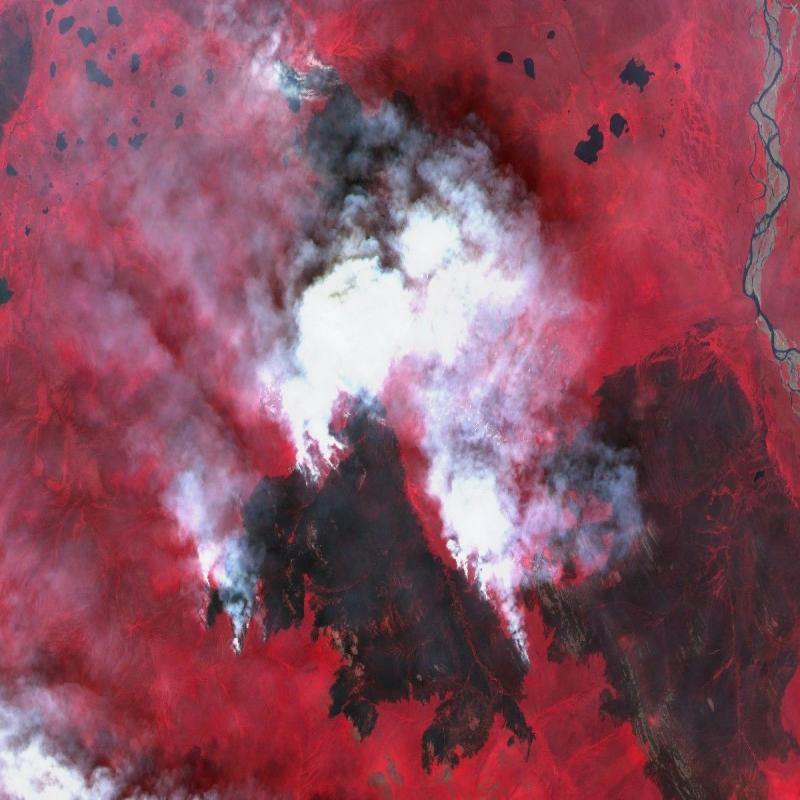fire: (195, 338, 539, 684), (269, 40, 363, 186)
